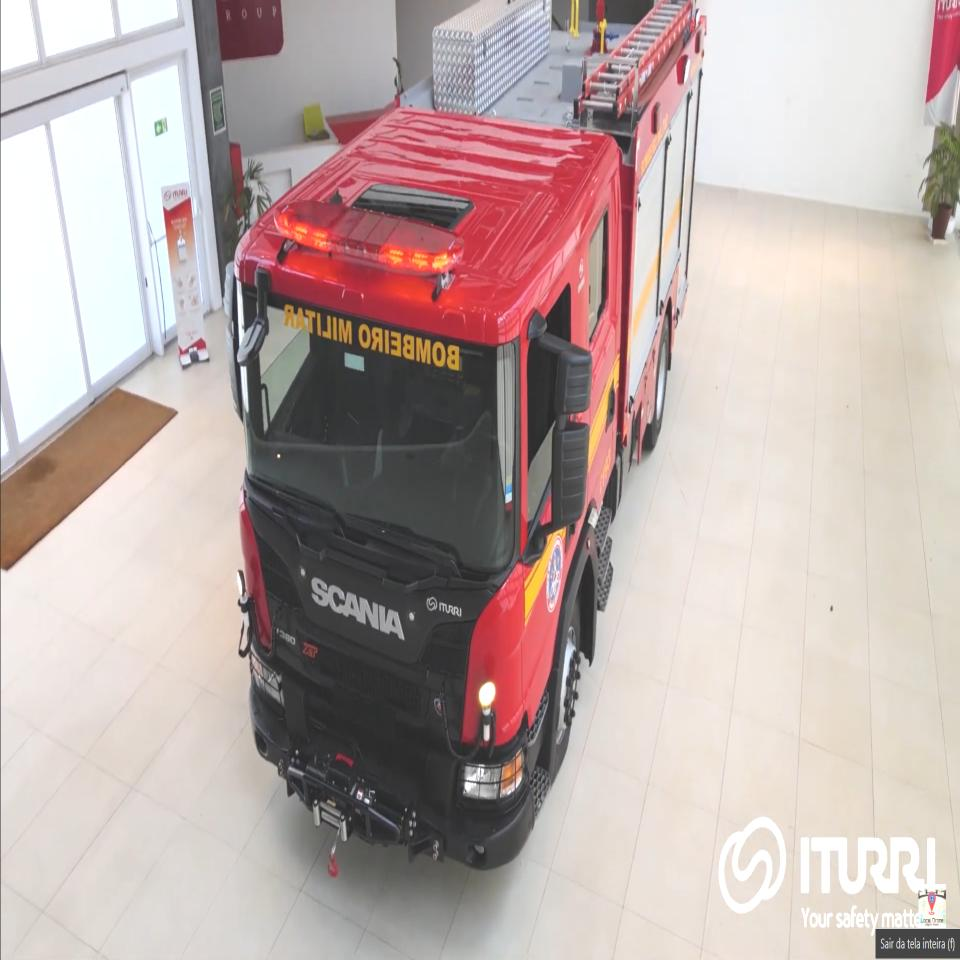bombeiro: (226, 0, 709, 879)
